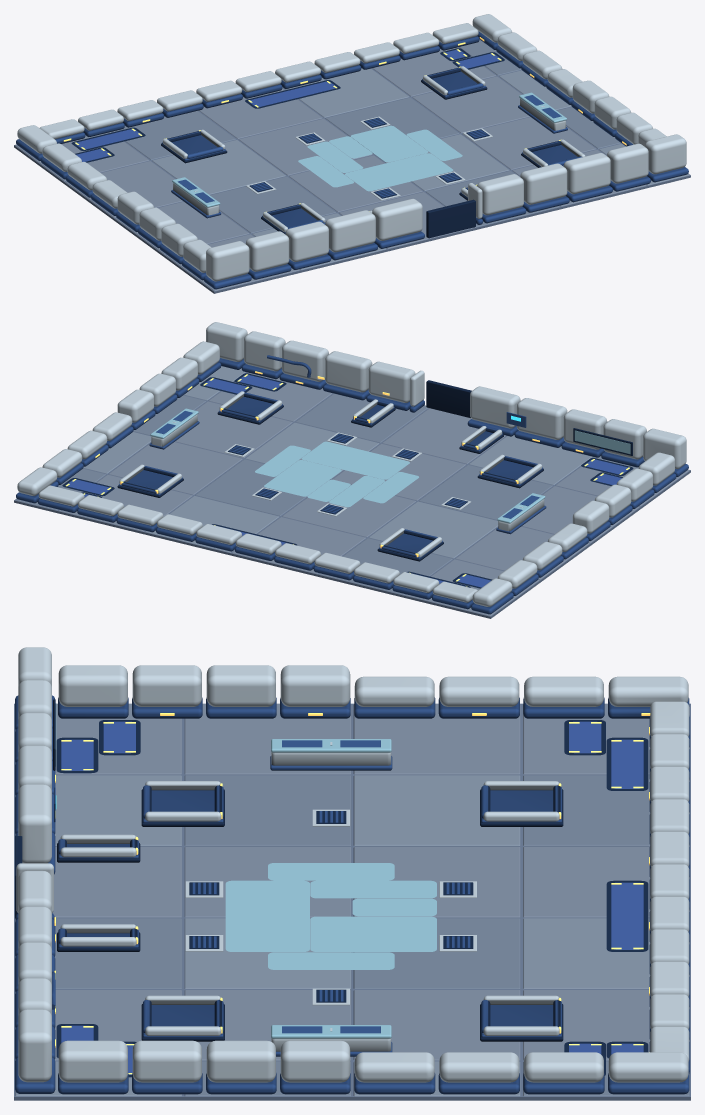
The model's file is CryoSoftRoomProps_cryo-c.fbx.
3 renders of one model, top to bottom at view 1: azimuth 30°, elevation 25°; view 2: azimuth 150°, elevation 25°; view 3: azimuth 270°, elevation 25°, orthographic. The views are drawn at different scales.
Visible parts, largest first — view 1: SC_wall_Soft_Ivory, SC_floor_Soft_Floor, SC_floor_Soft_FloorShade, SC_floor_Soft_FloorLight, SC_wall_Soft_Blue, SC_marking_Soft_Ice, SC_floor_Soft_Seam, SC_obstacle_Soft_Blue, SC_marking_Soft_Dock, SC_marking_Soft_Navy, SC_obstacle_Soft_Ivory, SC_wall_Soft_Navy (+6 smaller); view 2: SC_wall_Soft_Ivory, SC_floor_Soft_Floor, SC_floor_Soft_FloorShade, SC_floor_Soft_FloorLight, SC_wall_Soft_Blue, SC_marking_Soft_Ice, SC_floor_Soft_Seam, SC_obstacle_Soft_Blue, SC_marking_Soft_Navy, SC_obstacle_Soft_Ivory, SC_marking_Soft_Dock, SC_wall_Soft_Navy (+7 smaller); view 3: SC_floor_Soft_Floor, SC_wall_Soft_Ivory, SC_floor_Soft_FloorShade, SC_floor_Soft_FloorLight, SC_wall_Soft_Blue, SC_marking_Soft_Ice, SC_obstacle_Soft_Blue, SC_floor_Soft_Seam, SC_obstacle_Soft_Ivory, SC_marking_Soft_Dock, SC_marking_Soft_Navy, SC_obstacle_Soft_Navy (+5 smaller).
Boxes of the visible parts, <box> form: SC_wall_Soft_Ivory: <box>17,14,686,281</box>; SC_floor_Soft_Floor: <box>15,47,646,290</box>; SC_floor_Soft_FloorShade: <box>112,39,620,233</box>; SC_floor_Soft_FloorLight: <box>152,68,689,269</box>; SC_wall_Soft_Blue: <box>16,31,688,289</box>; SC_marking_Soft_Ice: <box>298,125,462,191</box>; SC_floor_Soft_Seam: <box>14,47,690,293</box>; SC_obstacle_Soft_Blue: <box>162,67,582,233</box>; SC_marking_Soft_Dock: <box>75,50,500,161</box>; SC_marking_Soft_Navy: <box>71,48,504,198</box>; SC_obstacle_Soft_Ivory: <box>162,66,585,232</box>; SC_wall_Soft_Navy: <box>426,199,475,238</box>; SC_wall_Soft_Ivory: <box>17,322,686,606</box>; SC_floor_Soft_Floor: <box>58,372,689,616</box>; SC_floor_Soft_FloorShade: <box>15,393,552,594</box>; SC_floor_Soft_FloorLight: <box>83,366,592,558</box>; SC_wall_Soft_Blue: <box>16,355,688,614</box>; SC_marking_Soft_Ice: <box>255,441,418,507</box>; SC_floor_Soft_Seam: <box>14,372,690,618</box>; SC_obstacle_Soft_Blue: <box>118,392,542,558</box>; SC_marking_Soft_Navy: <box>62,373,633,588</box>; SC_obstacle_Soft_Ivory: <box>119,391,542,557</box>; SC_marking_Soft_Dock: <box>66,375,629,587</box>; SC_wall_Soft_Navy: <box>426,380,632,455</box>; SC_floor_Soft_Floor: <box>52,703,689,1060</box>; SC_wall_Soft_Ivory: <box>16,647,689,1082</box>; SC_floor_Soft_FloorShade: <box>15,775,689,1096</box>; SC_floor_Soft_FloorLight: <box>15,775,649,1096</box>; SC_wall_Soft_Blue: <box>15,695,689,1094</box>; SC_marking_Soft_Ice: <box>225,863,436,969</box>; SC_obstacle_Soft_Blue: <box>58,785,561,1037</box>; SC_floor_Soft_Seam: <box>14,703,690,1100</box>; SC_obstacle_Soft_Ivory: <box>60,781,559,1035</box>; SC_marking_Soft_Dock: <box>61,721,643,1074</box>; SC_marking_Soft_Navy: <box>56,720,648,1077</box>; SC_obstacle_Soft_Navy: <box>57,789,563,1041</box>.
Size of the model in its own units: 4400 by 334 by 3200.
